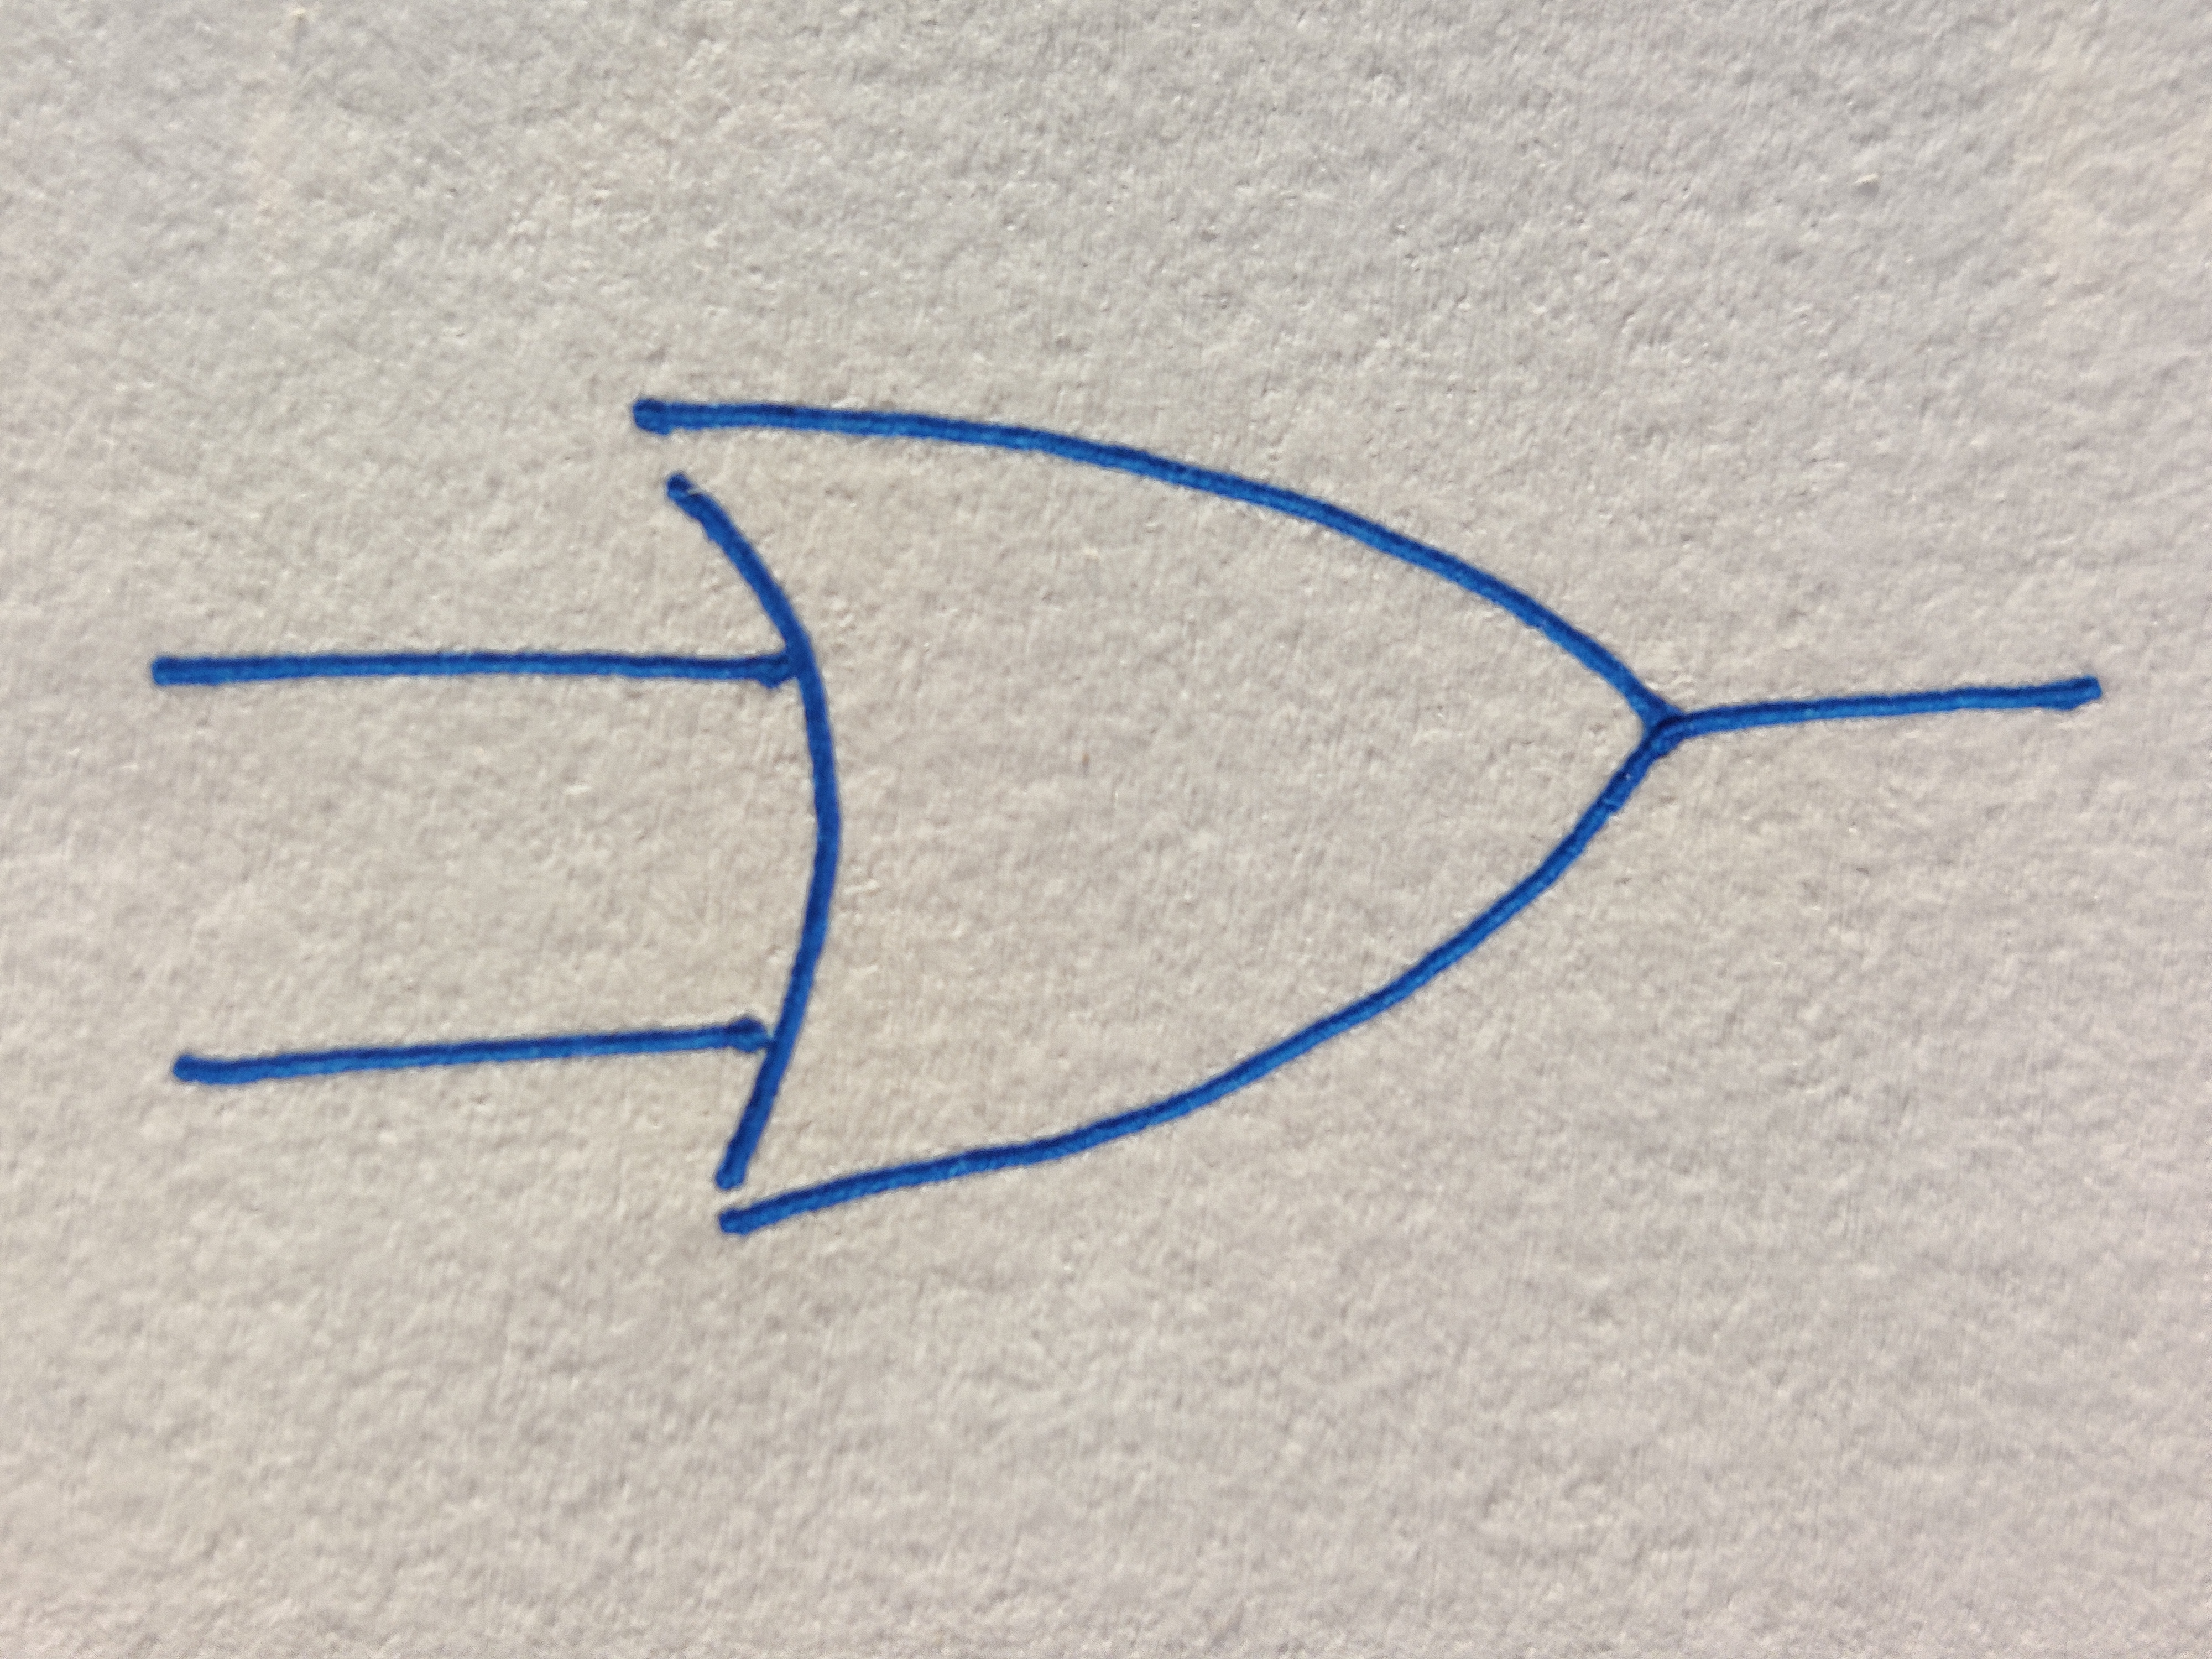or: (632, 390, 1684, 1237)
